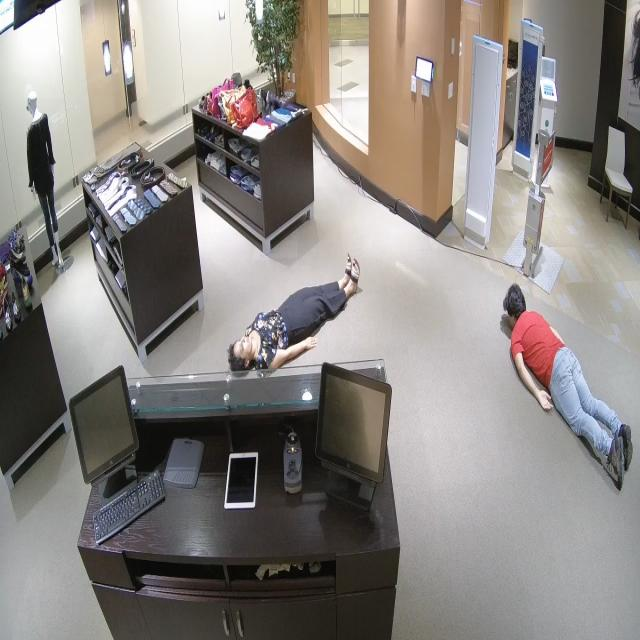fall: (493, 266, 636, 512), (213, 244, 379, 370)
